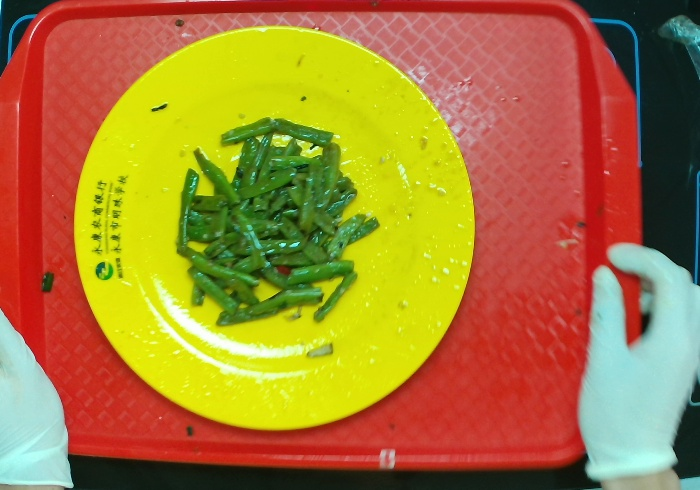YKMZ-Huang_Se_Mian_Pan: (71, 25, 480, 435)
